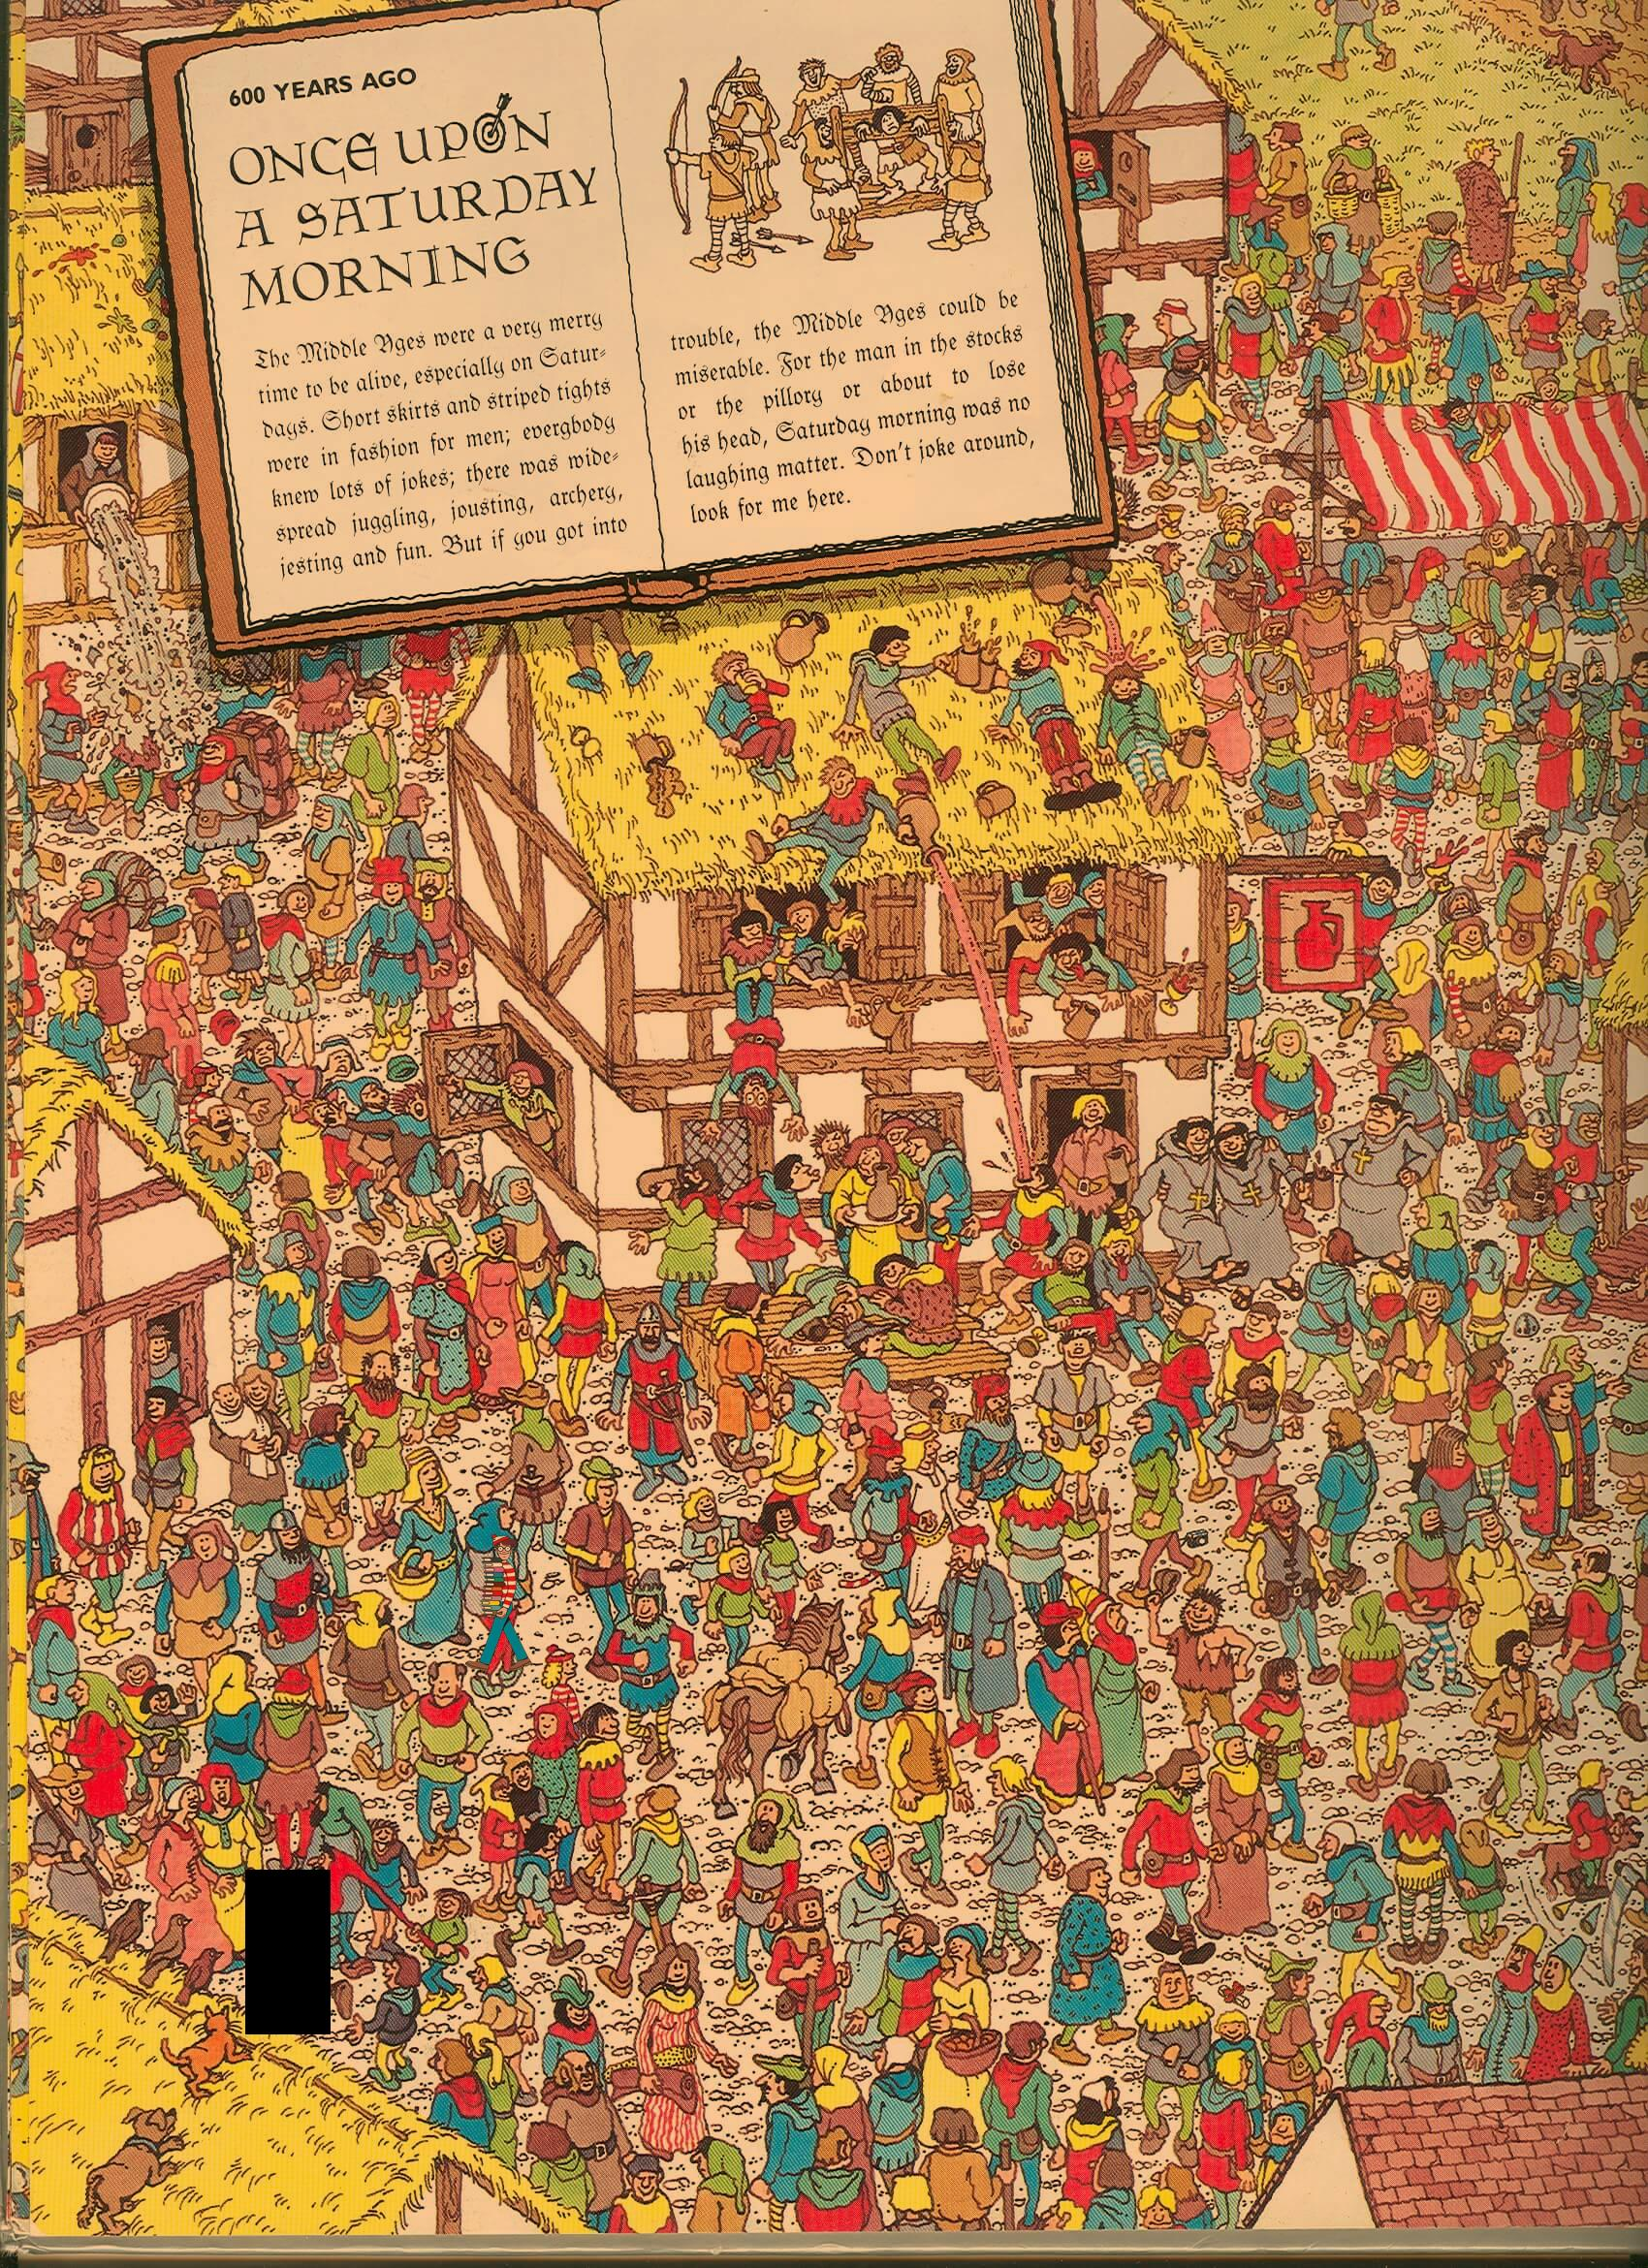waldos: (460, 1523, 544, 1687)
